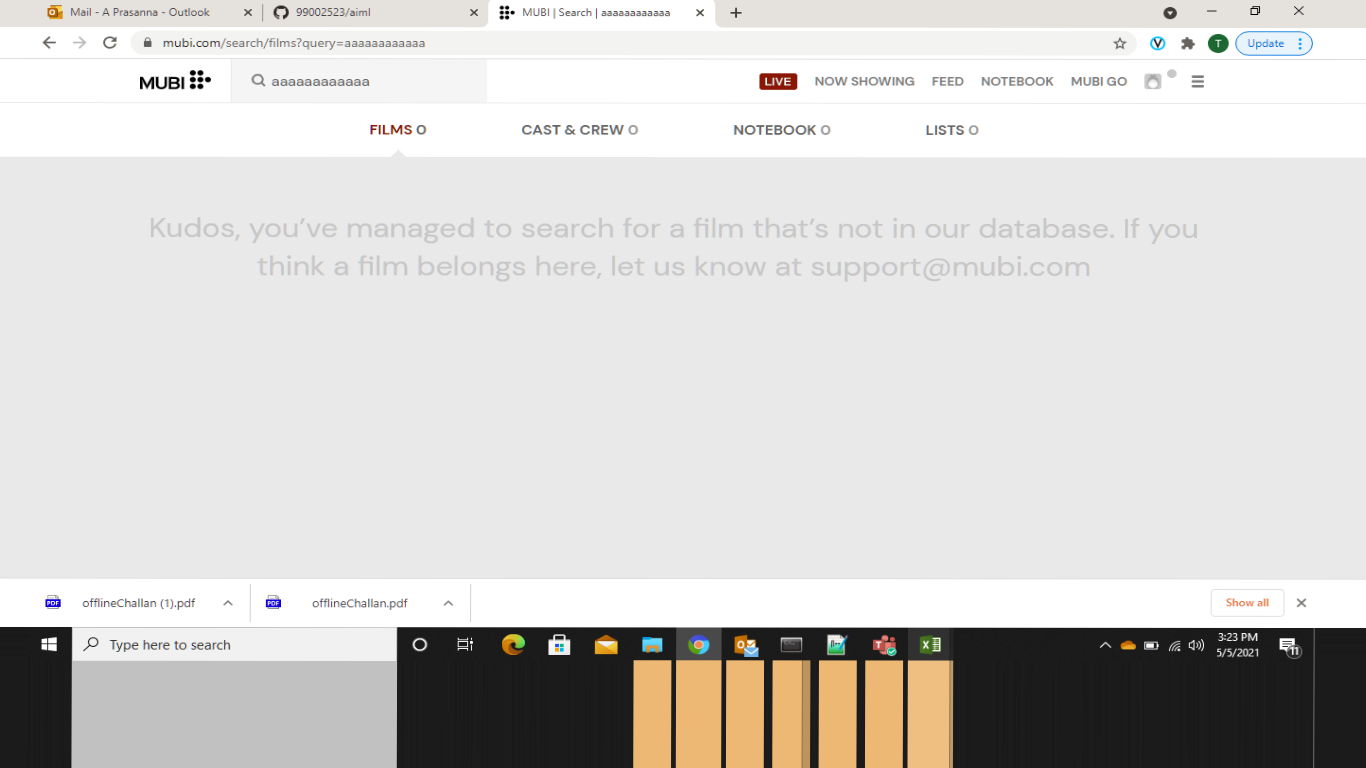noresultsfound: (126, 192, 1204, 297)
profileicon: (1137, 60, 1175, 97)
searchicon: (240, 60, 268, 96)
searchtextbox: (222, 57, 485, 109)
